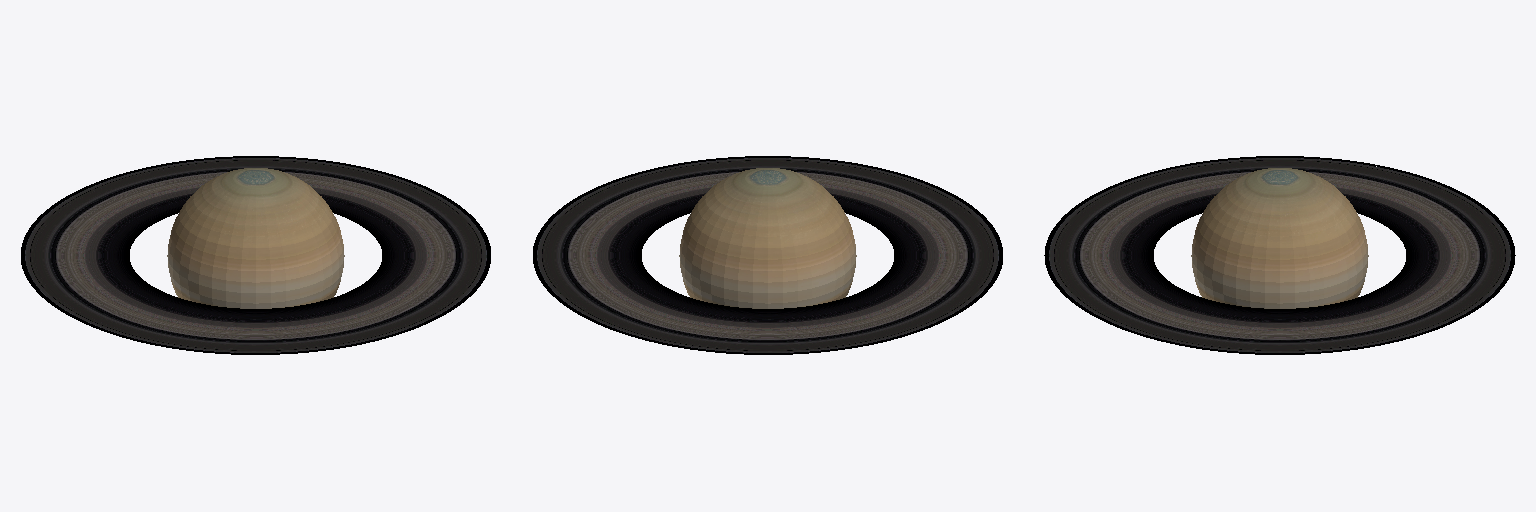
3 views of the same model, side by side, from view 1: azimuth 30°, elevation 25°; view 2: azimuth 150°, elevation 25°; view 3: azimuth 270°, elevation 25° (orthographic).
Visible parts, largest first — view 1: saturn.ring_Circle.001, saturn_Circle; view 2: saturn.ring_Circle.001, saturn_Circle; view 3: saturn.ring_Circle.001, saturn_Circle.
Part boxes in pixels (x1,y1,x2,y2): saturn.ring_Circle.001: (21, 156, 490, 354); saturn_Circle: (167, 168, 344, 308); saturn.ring_Circle.001: (533, 156, 1002, 354); saturn_Circle: (679, 168, 856, 308); saturn.ring_Circle.001: (1044, 156, 1515, 354); saturn_Circle: (1191, 168, 1368, 308).
Bounding box in the file's own units: 2.3 × 0.864 × 2.3.
2 materials, 2 textured.